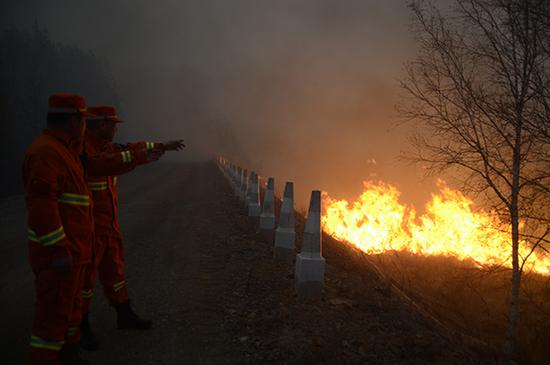fire: (317, 167, 549, 280)
